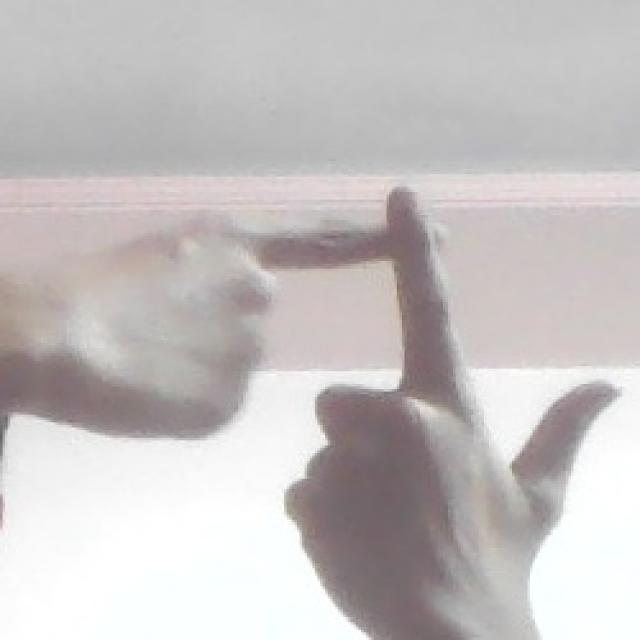Alphabet-J: (49, 173, 626, 598)
